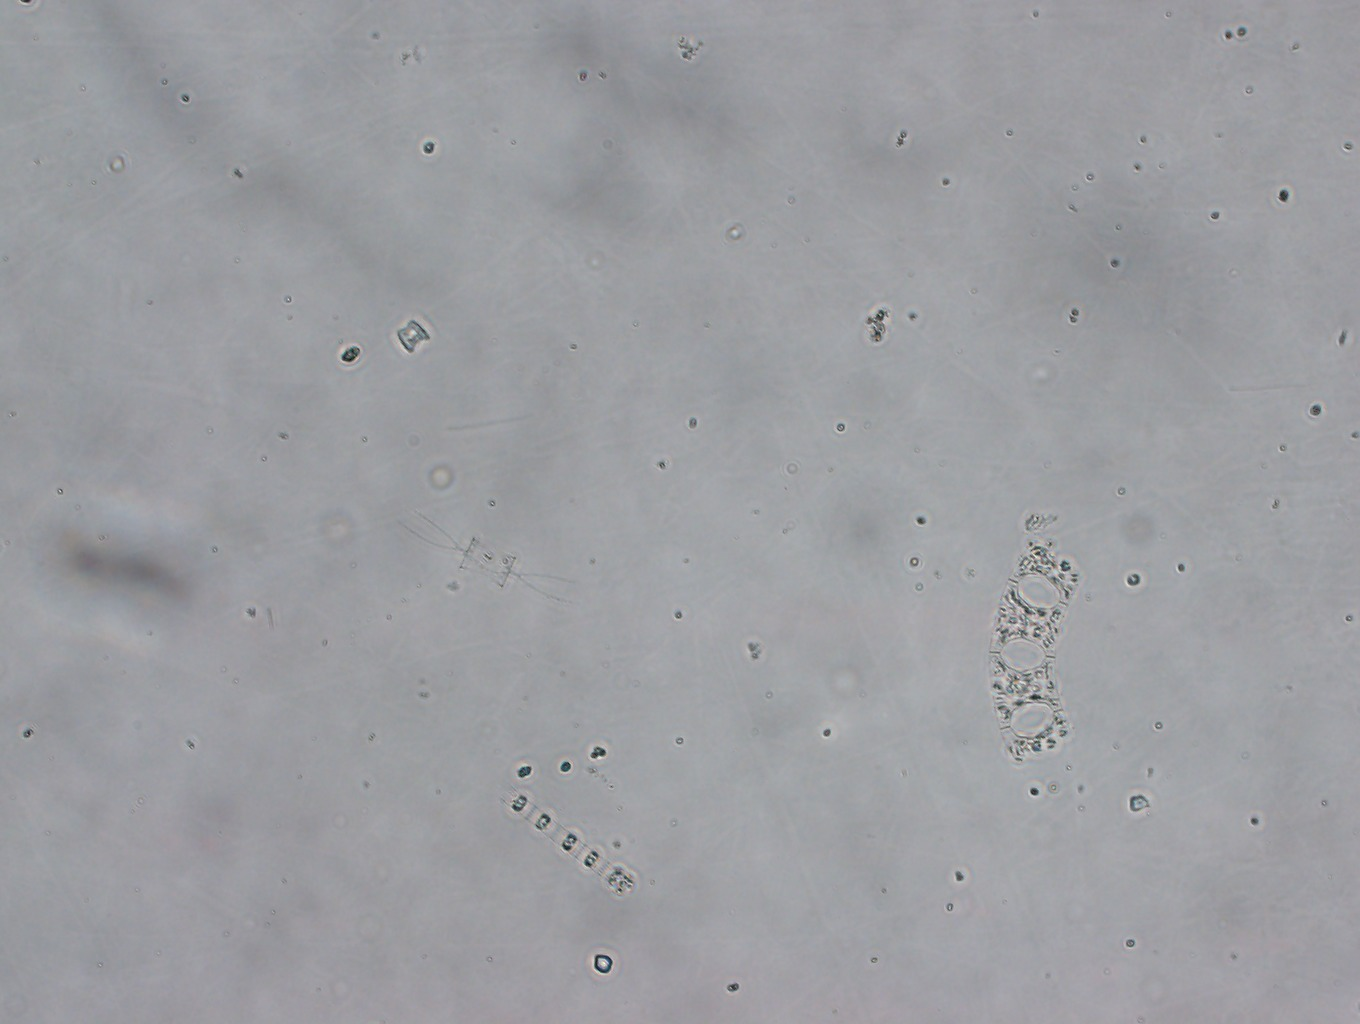chaetoceros: (390, 509, 582, 610)
eucampia: (980, 534, 1094, 777)
skeletonema: (491, 786, 640, 906)
